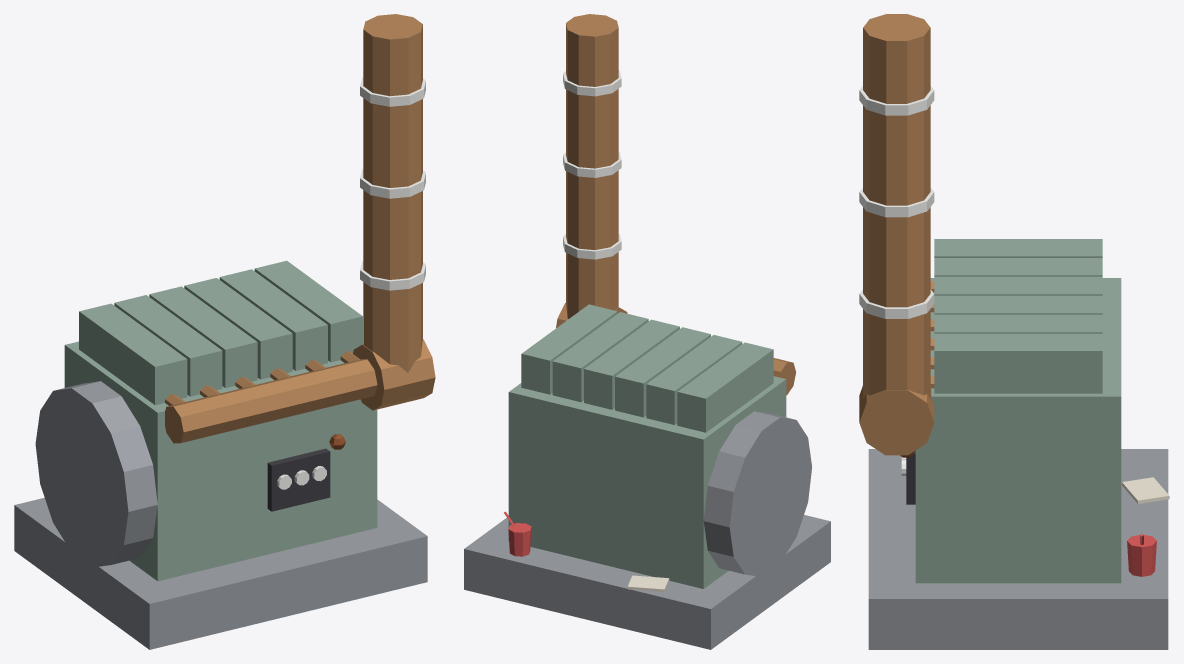
Rendered from CR_Motor.fbx.
3 renders of one model, left to right at view 1: azimuth 30°, elevation 25°; view 2: azimuth 150°, elevation 25°; view 3: azimuth 270°, elevation 25°, orthographic. The views are drawn at different scales.
Parts seen in each view (by area): view 1: CR_Motor; view 2: CR_Motor; view 3: CR_Motor.
Part boxes in pixels (x1,y1,x2,y2): CR_Motor: [14, 14, 435, 649]; CR_Motor: [464, 14, 830, 649]; CR_Motor: [859, 14, 1169, 649].
Bounding box in the file's own units: 1.94 × 3.6 × 1.66.
